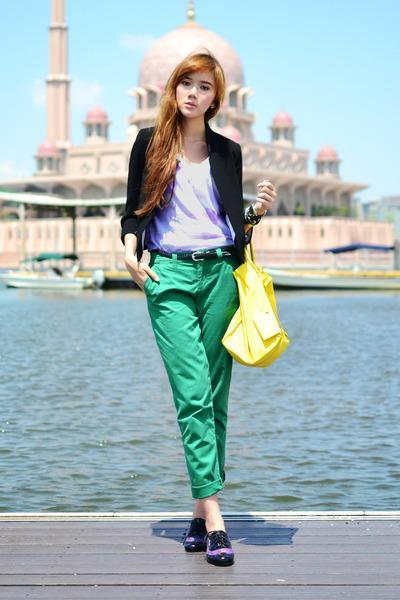bag: (222, 238, 287, 366)
jacket: (116, 108, 264, 245)
pants: (144, 249, 239, 498)
shirt: (151, 156, 234, 251)
shoe: (185, 518, 233, 566)
